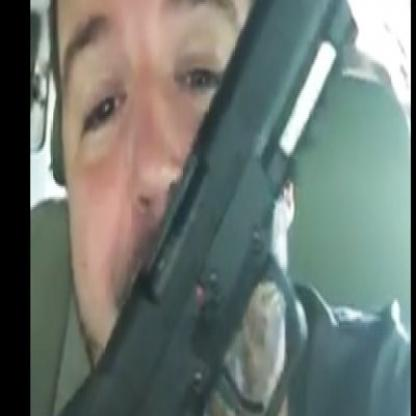gun: (32, 0, 369, 414)
